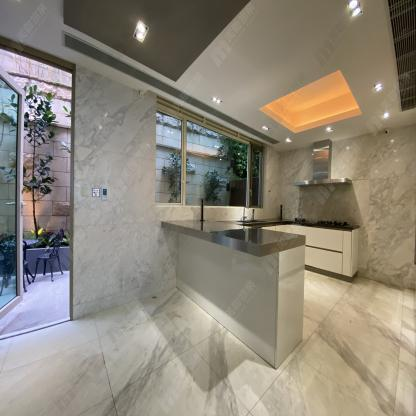Cupboard: (264, 222, 361, 280)
Exhaust Hood: (291, 139, 350, 188)
Faucet: (242, 206, 249, 219), (251, 207, 255, 220)
Stove: (291, 216, 355, 229)
